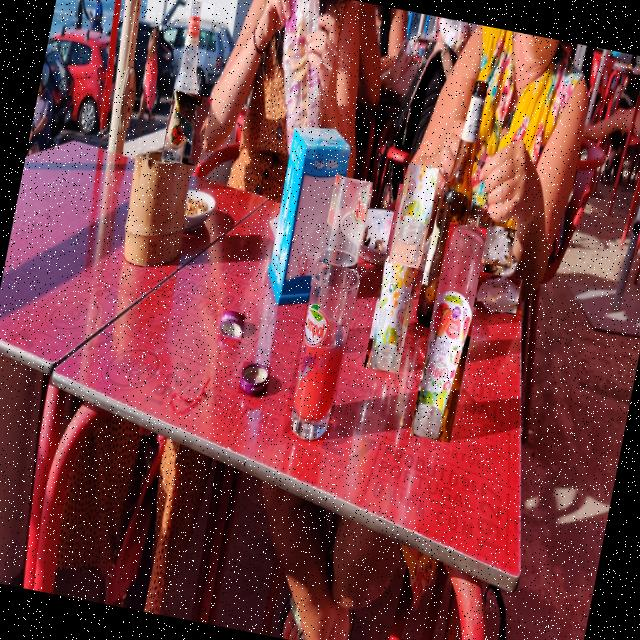Crisp packet: (175, 91, 202, 166)
Glass bottle: (417, 81, 489, 328), (416, 225, 487, 440), (374, 187, 429, 372), (167, 3, 203, 148)
Glass cup: (291, 260, 360, 443), (322, 176, 372, 267), (392, 164, 431, 267)
Metal bottle cap: (240, 365, 270, 396), (220, 311, 244, 339)
Plastic film: (282, 0, 322, 155)
Tissues: (287, 176, 341, 281), (477, 278, 520, 310), (485, 226, 513, 266)
